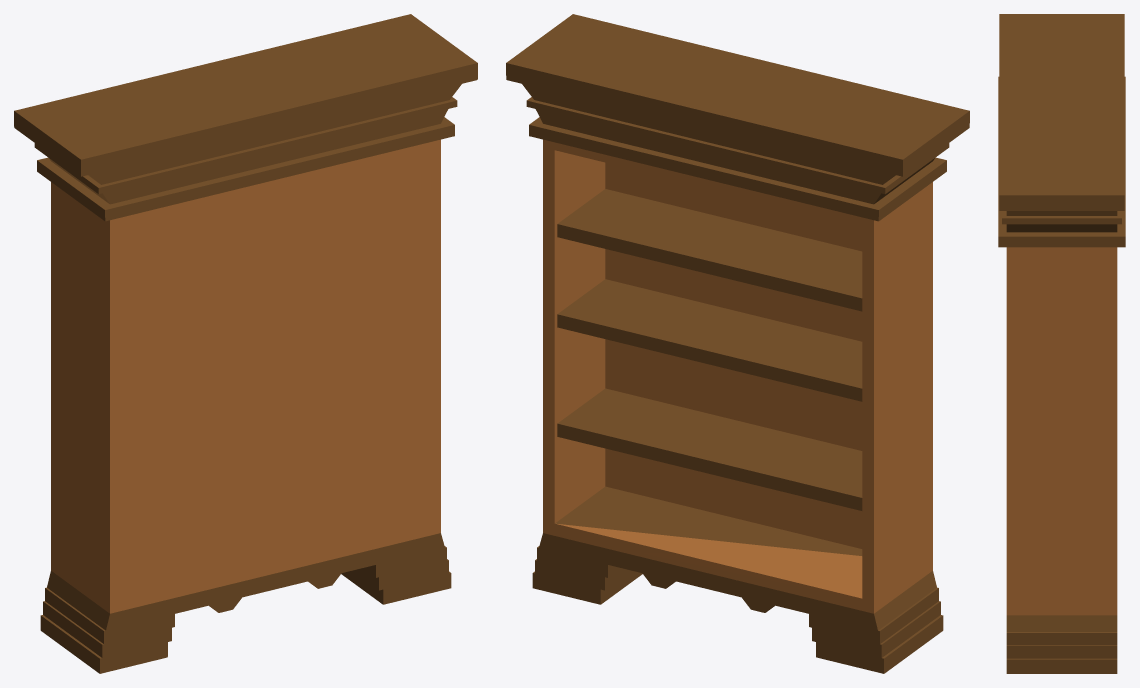
File: shelf.fbx
The picture shows the model from 3 angles, left to right: view 1: azimuth 30°, elevation 25°; view 2: azimuth 150°, elevation 25°; view 3: azimuth 270°, elevation 25°; orthographic projection. The views are drawn at different scales.
Visible parts, largest first — view 1: shelf; view 2: shelf; view 3: shelf.
Part boxes in pixels (box(x1,y1,x2,y2)): shelf: box(14, 14, 477, 673); shelf: box(506, 14, 969, 673); shelf: box(998, 14, 1125, 673).
Bounding box in the file's own units: 1.69 × 2.12 × 0.5025.
